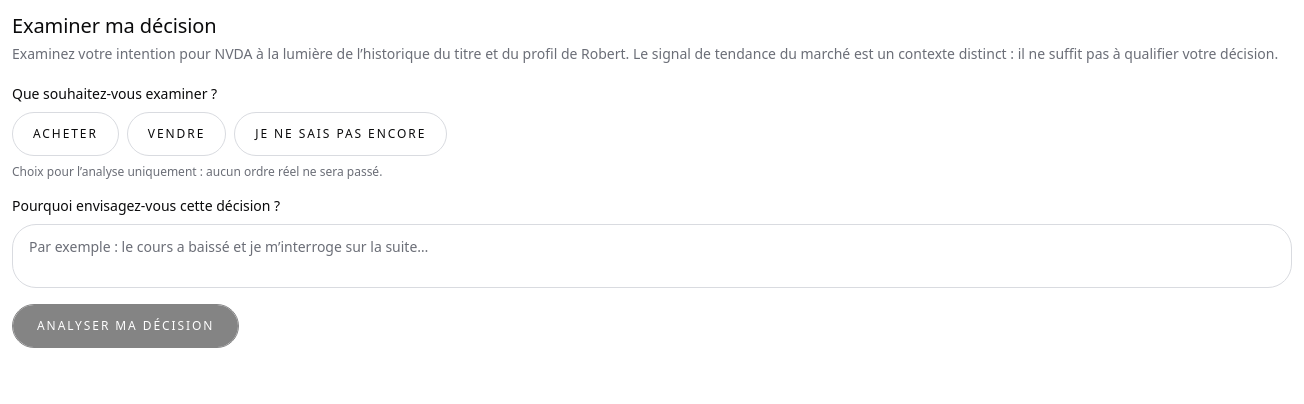
shows the operations included while the analysis is pending
This screenshot has width=1304, height=404.
Later steps or results of the test are not shown.
Type "Je réfléchis" into the text box labelled "Pourquoi envisagez-vous cette décision ?" at (652, 256), box [12, 224, 1292, 288]
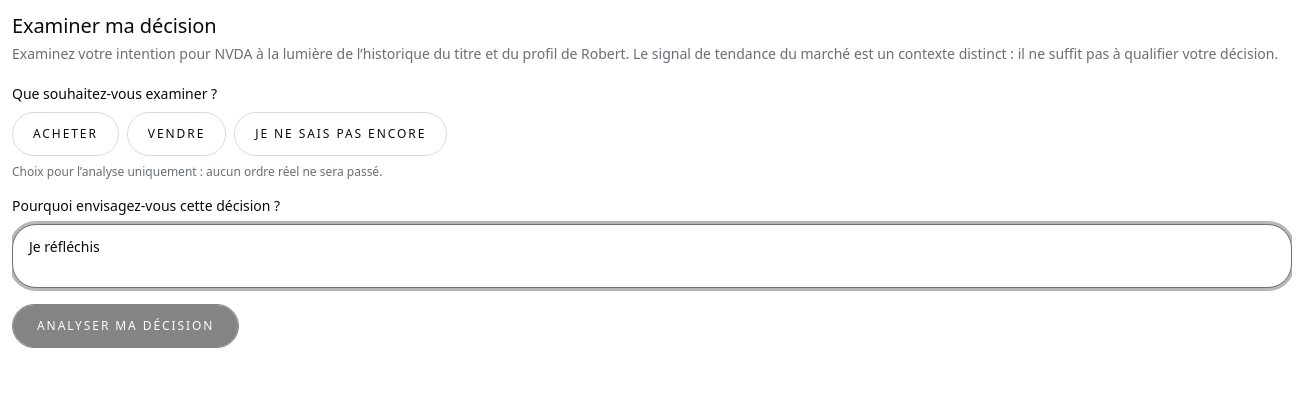
Click the radio button labelled "Je ne sais pas encore" at (341, 134), box [234, 112, 447, 156]
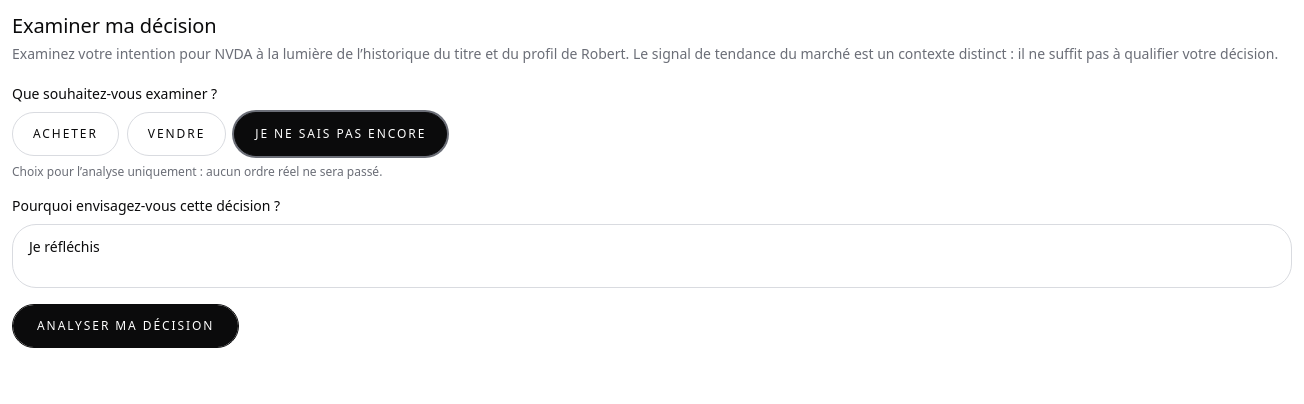
Click the button "Analyser ma décision" at (126, 326), box [12, 304, 239, 348]
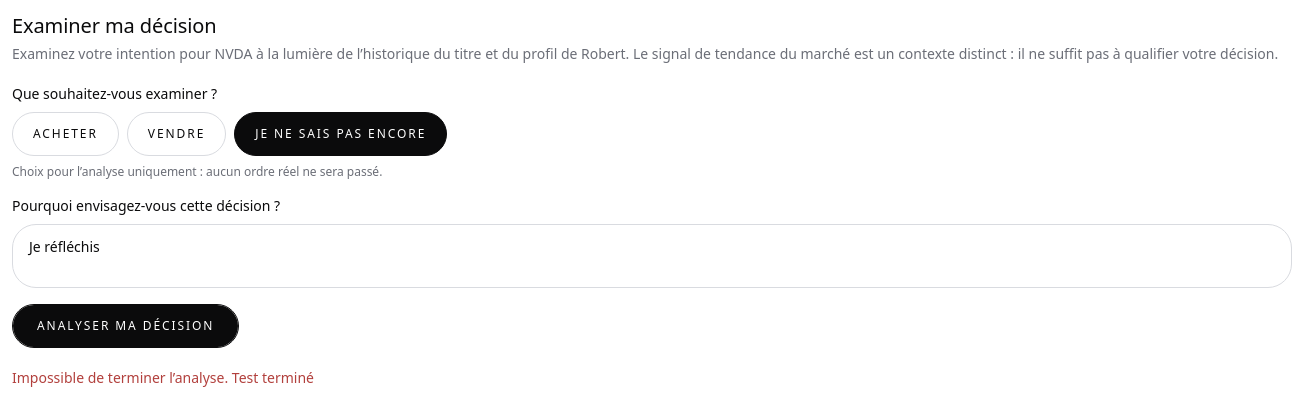
expect the message shows "Test terminé": met, box [232, 368, 314, 387]
